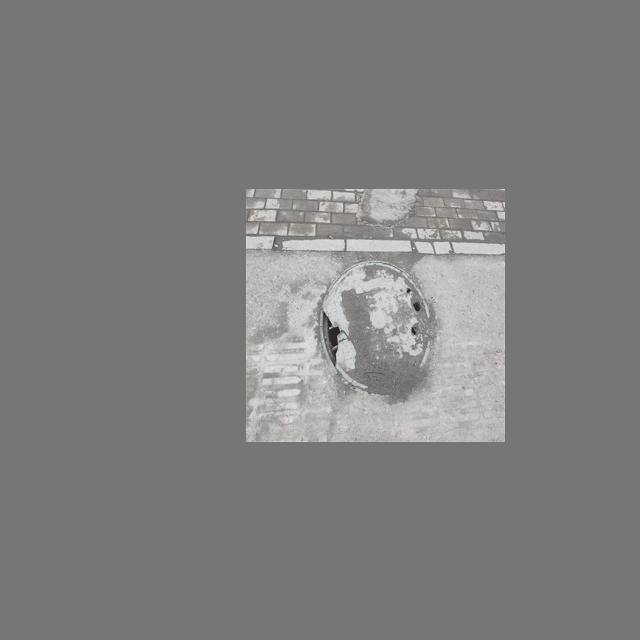broke: (319, 264, 433, 391)
